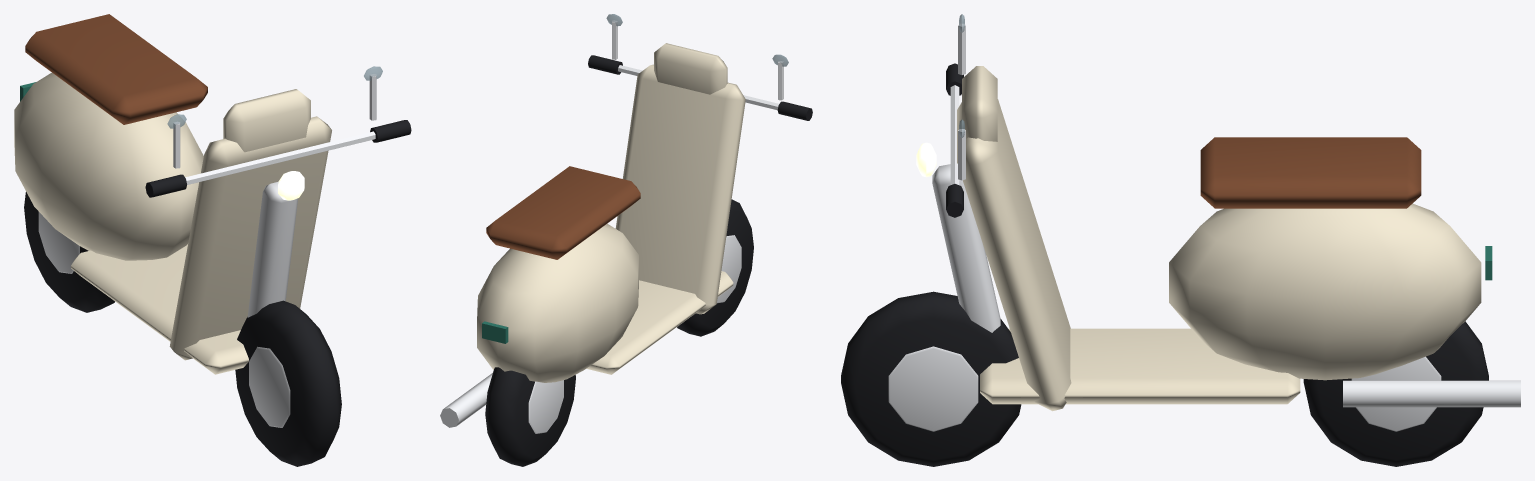
The model's file is scooter_moto.glb.
3 renders of one model, left to right at view 1: azimuth 30°, elevation 25°; view 2: azimuth 150°, elevation 25°; view 3: azimuth 270°, elevation 25°, orthographic. The views are drawn at different scales.
Visible parts, largest first — view 1: scooter_moto; view 2: scooter_moto; view 3: scooter_moto.
Part boxes in pixels (x1,y1,x2,y2): scooter_moto: (14,14,411,466); scooter_moto: (440,14,812,466); scooter_moto: (841,14,1520,466).
Bounding box in the file's own units: 0.92 × 1.23 × 1.91.
